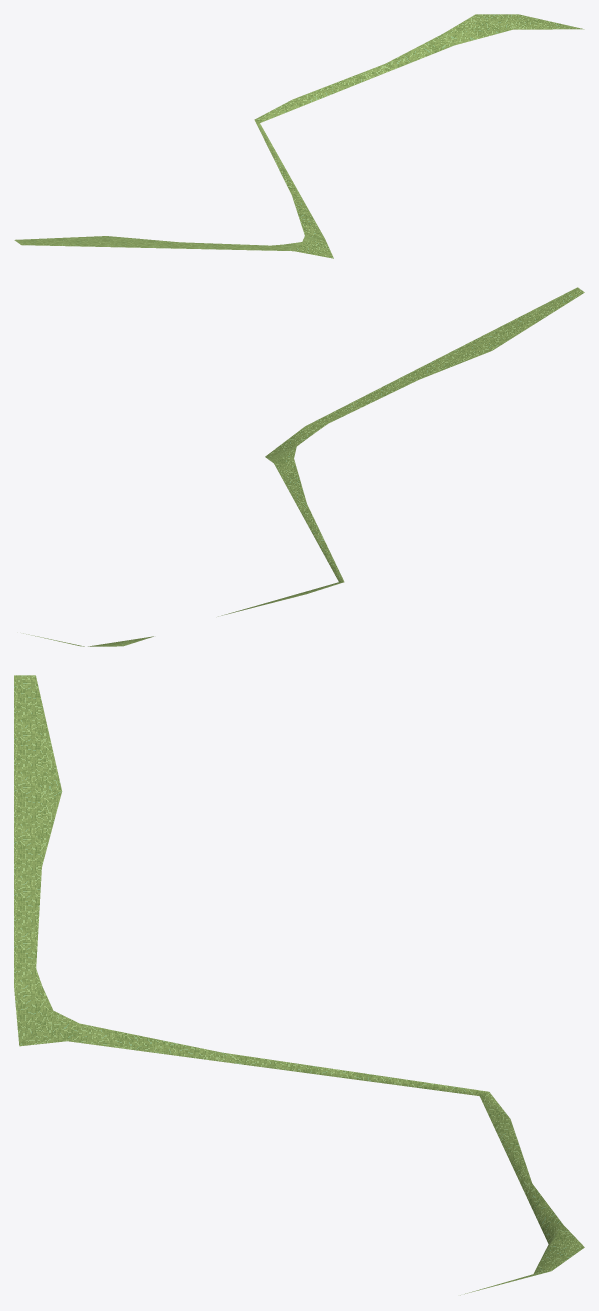
The model's file is kd_connection_town-ground_surface_2_21.glb.
3 views of the same model, one above another, from view 1: azimuth 30°, elevation 25°; view 2: azimuth 210°, elevation 25°; view 3: azimuth 270°, elevation 25° (orthographic). The views are drawn at different scales.
Visible parts, largest first — view 1: kd_connection_town-ground_surface_2_21; view 2: kd_connection_town-ground_surface_2_21; view 3: kd_connection_town-ground_surface_2_21.
Part boxes in pixels (left/top/right/bottom): kd_connection_town-ground_surface_2_21: left=14, top=14, right=584, bottom=258; kd_connection_town-ground_surface_2_21: left=23, top=287, right=584, bottom=646; kd_connection_town-ground_surface_2_21: left=14, top=675, right=584, bottom=1295.
Bounding box in the file's own units: 62.55 × 7.72 × 28.81.
Materials: 1 (1 with a texture image).
